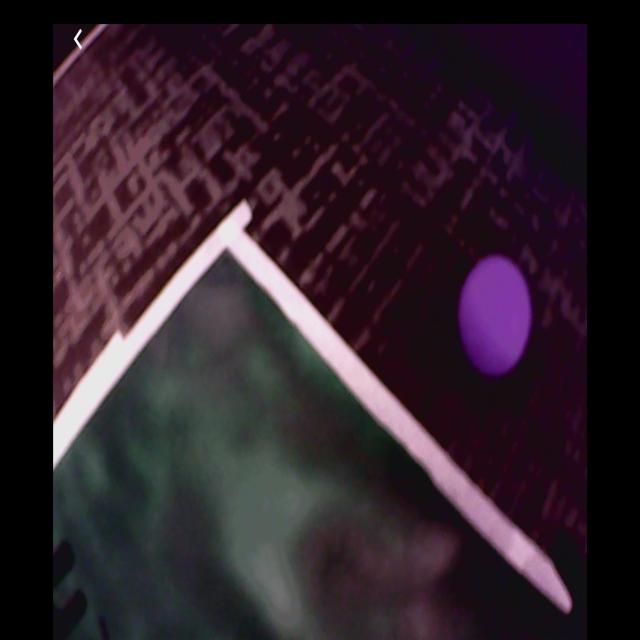ball: (459, 253, 533, 378)
